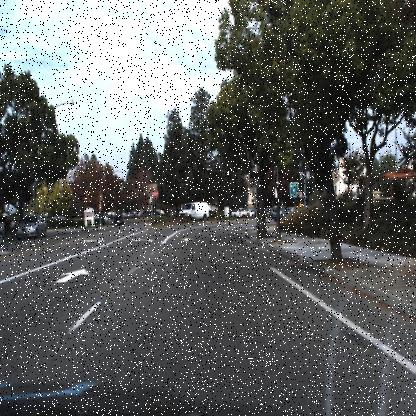car: (178, 196, 214, 226), (16, 212, 47, 243), (268, 201, 293, 224), (270, 203, 293, 226), (112, 210, 126, 227)
